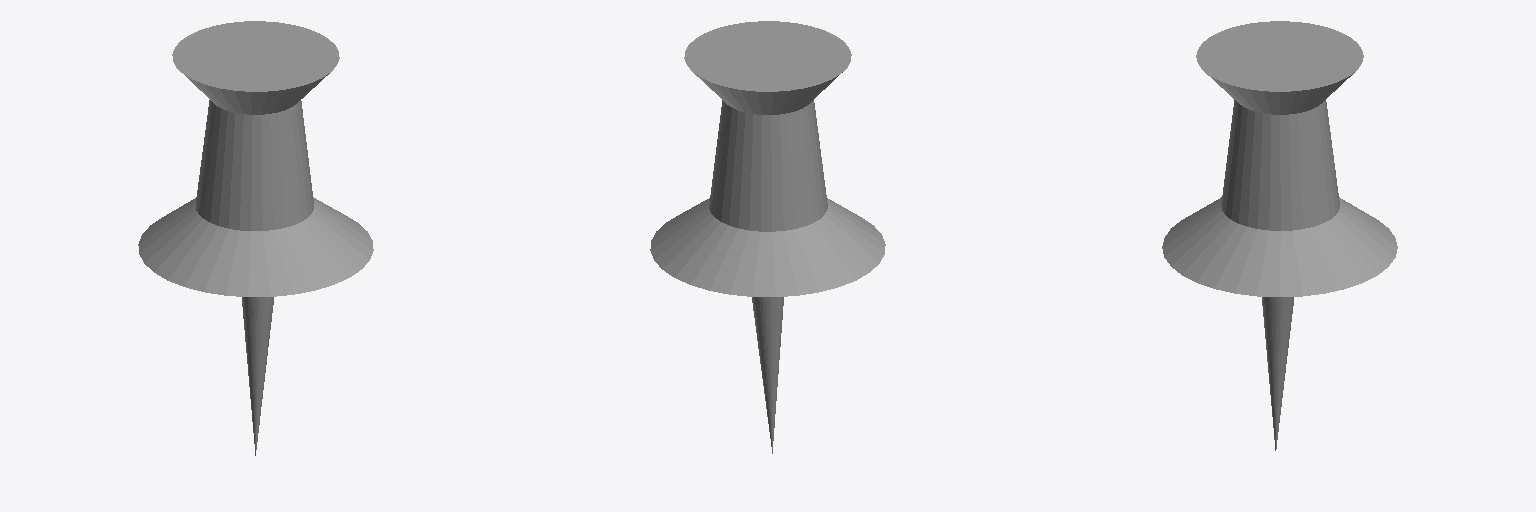
File: thumbpick.obj
3 views of the same model, side by side, from view 1: azimuth 30°, elevation 25°; view 2: azimuth 150°, elevation 25°; view 3: azimuth 270°, elevation 25° (orthographic).
Visible parts, largest first — view 1: Cylinder; view 2: Cylinder; view 3: Cylinder.
Boxes of the visible parts, <box> form: Cylinder: <box>138,21,373,455</box>; Cylinder: <box>650,21,885,453</box>; Cylinder: <box>1162,21,1397,450</box>.
Bounding box in the file's own units: 2.24 × 4.18 × 2.24.